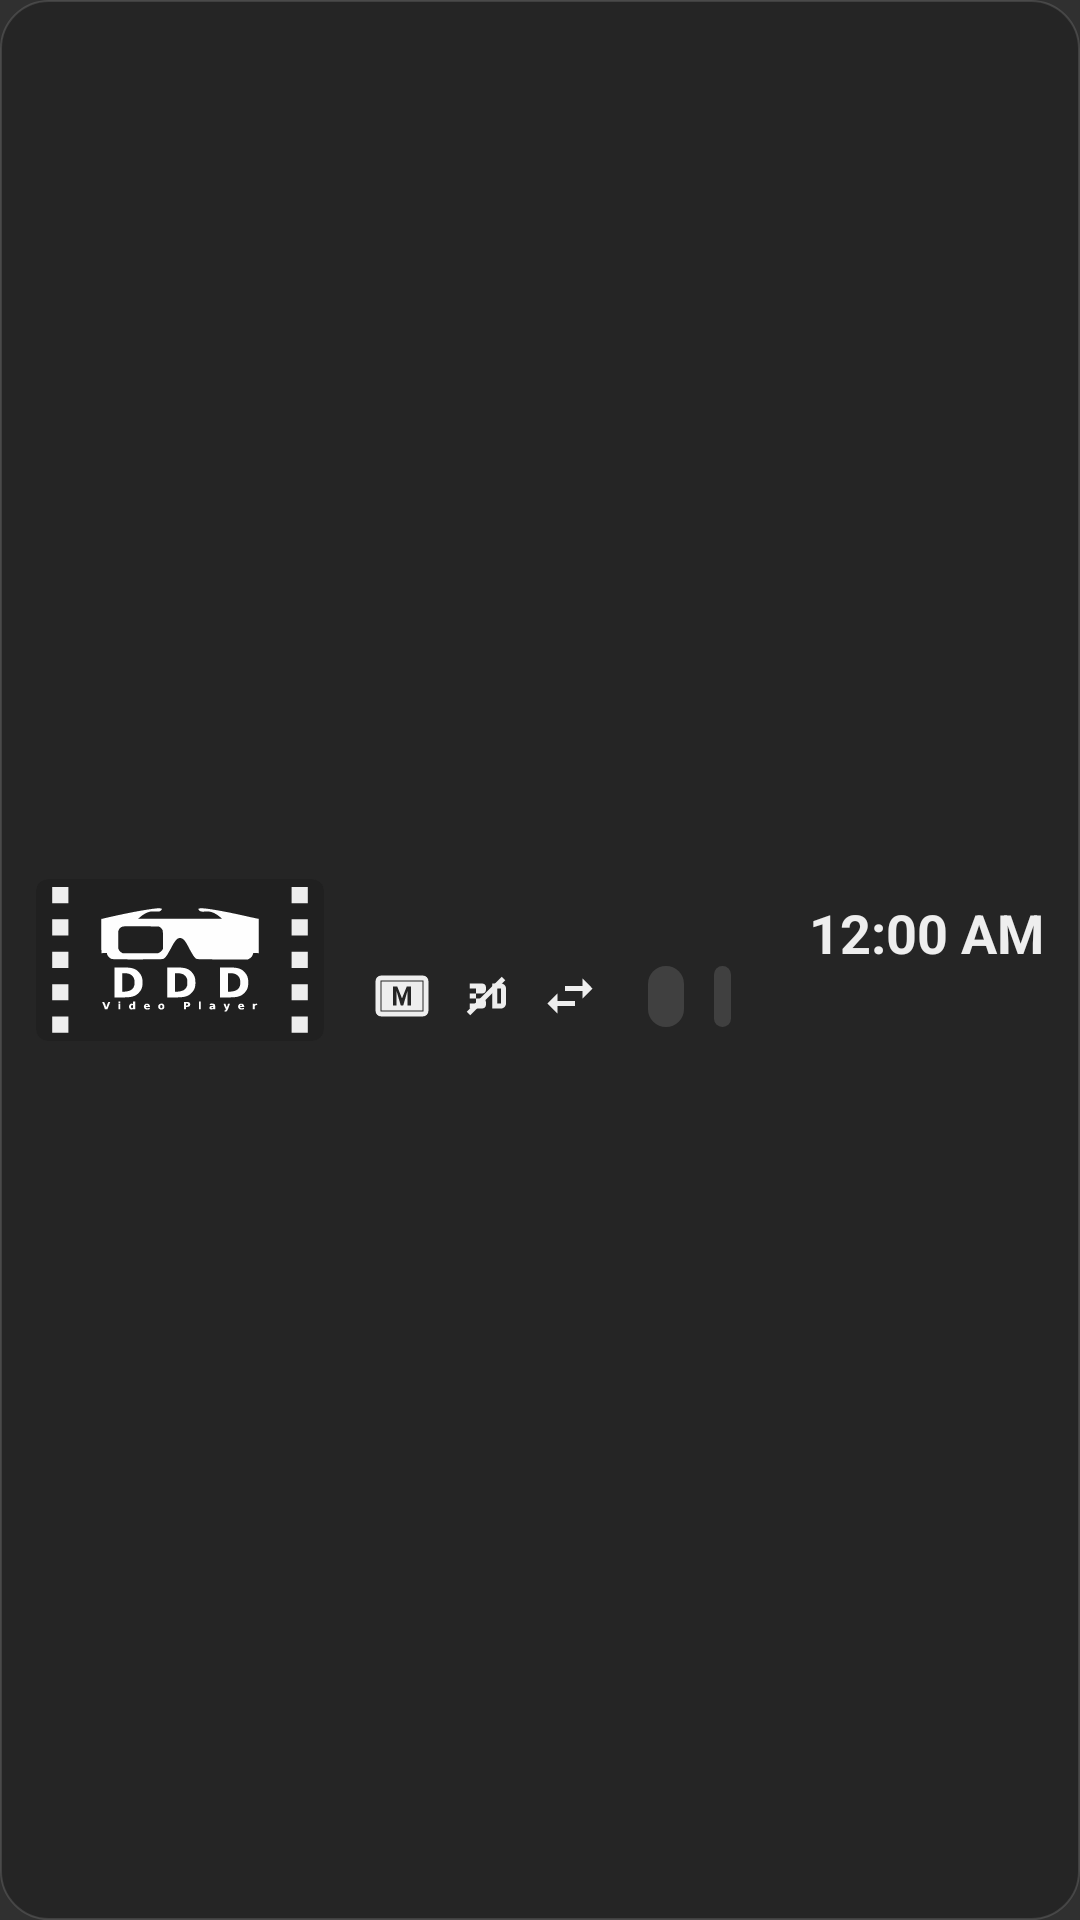

Named icons in this screenshot (1080px×1920px) and their bounding boxes, {"x1": x1, "y1": y1, "x2": x2, "y2": y2}:
mode mono: {"x1": 375, "y1": 975, "x2": 429, "y2": 1017}
output mode 3d off: {"x1": 467, "y1": 977, "x2": 506, "y2": 1015}
swap horiz: {"x1": 547, "y1": 978, "x2": 593, "y2": 1014}
